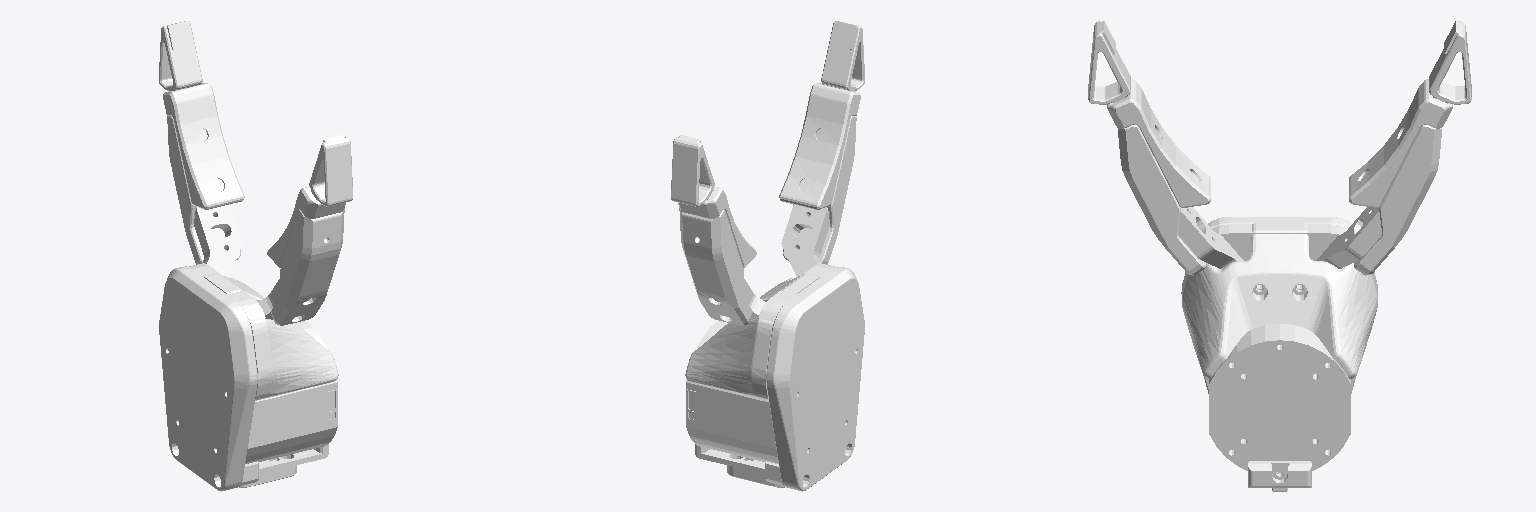
robot.urdf — xpkg_urdf_gr100:
<?xml version="1.0" encoding="utf-8"?>
<!-- This URDF was automatically created by SolidWorks to URDF Exporter! Originally created by Stephen Brawner (brawner@gmail.com) 
     Commit Version: 1.6.0-4-g7f85cfe  Build Version: 1.6.7995.38578
     For more information, please see http://wiki.ros.org/sw_urdf_exporter -->
<robot
  name="xpkg_urdf_gr100">
  <link
    name="base_link">
    <inertial>
      <origin
        xyz="-0.00386337 0.00001755 0.04222242"
        rpy="0 0 0" />
      <mass
        value="0.47163661" />
      <inertia
        ixx="0.00032421"
        ixy="0.00000064"
        ixz="0.00004032"
        iyy="0.00032388"
        iyz="0.00000041"
        izz="0.00022576" />
    </inertial>
    <visual>
      <origin
        xyz="0 0 0"
        rpy="0 0 0" />
      <geometry>
        <mesh
          filename="package://xpkg_urdf_gr100/meshes/base_link.STL" />
      </geometry>
      <material
        name="">
        <color
          rgba="1 1 1 1" />
      </material>
    </visual>
    <collision>
      <origin
        xyz="0 0 0"
        rpy="0 0 0" />
      <geometry>
        <mesh
          filename="package://xpkg_urdf_gr100/meshes/base_link.STL" />
      </geometry>
    </collision>
  </link>
  <link
    name="L1">
    <inertial>
      <origin
        xyz="0.01344478 -0.02402636 0.03494436"
        rpy="0 0 0" />
      <mass
        value="0.02806607" />
      <inertia
        ixx="0.00002286"
        ixy="0.00000088"
        ixz="-0.00000130"
        iyy="0.00001838"
        iyz="0.00000883"
        izz="0.00000630" />
    </inertial>
    <visual>
      <origin
        xyz="0 0 0"
        rpy="0 0 0" />
      <geometry>
        <mesh
          filename="package://xpkg_urdf_gr100/meshes/L1.STL" />
      </geometry>
      <material
        name="">
        <color
          rgba="1 1 1 1" />
      </material>
    </visual>
    <collision>
      <origin
        xyz="0 0 0"
        rpy="0 0 0" />
      <geometry>
        <mesh
          filename="package://xpkg_urdf_gr100/meshes/L1.STL" />
      </geometry>
    </collision>
  </link>
  <joint
    name="J1"
    type="revolute">
    <origin
      xyz="0 -0.015 0.076799"
      rpy="0 0 0" />
    <parent
      link="base_link" />
    <child
      link="L1" />
    <axis
      xyz="-1 0 0" />
    <limit
      lower="0.0"
      upper="0.57"
      effort="5"
      velocity="10" />
  </joint>
  <link
    name="L2">
    <inertial>
      <origin
        xyz="0.01341406 0.02402380 0.03494613"
        rpy="0 0 0" />
      <mass
        value="0.02806607" />
      <inertia
        ixx="0.00002286"
        ixy="-0.00000087"
        ixz="-0.00000129"
        iyy="0.00001838"
        iyz="-0.00000883"
        izz="0.00000629" />
    </inertial>
    <visual>
      <origin
        xyz="0 0 0"
        rpy="0 0 0" />
      <geometry>
        <mesh
          filename="package://xpkg_urdf_gr100/meshes/L2.STL" />
      </geometry>
      <material
        name="">
        <color
          rgba="1 1 1 1" />
      </material>
    </visual>
    <collision>
      <origin
        xyz="0 0 0"
        rpy="0 0 0" />
      <geometry>
        <mesh
          filename="package://xpkg_urdf_gr100/meshes/L2.STL" />
      </geometry>
    </collision>
  </link>
  <joint
    name="J2"
    type="revolute">
    <origin
      xyz="0 0.015 0.076799"
      rpy="0 0 0" />
    <parent
      link="base_link" />
    <child
      link="L2" />
    <axis
      xyz="1 0 0" />
    <limit
      lower="0.0"
      upper="0.57"
      effort="5"
      velocity="10" />
  </joint>
</robot>

--- What the picture shows (computed from the rendered views, not written in the file) ---
3 views of the same robot in one strip: view 1: azimuth 30°, elevation 25°; view 2: azimuth 150°, elevation 25°; view 3: azimuth 270°, elevation 25° (orthographic).
Model xpkg_urdf_gr100 with 3 links and 2 joints (2 revolute), rooted at base_link, posed every joint at zero.
Links seen in each view (by area): view 1: base_link, L2, L1; view 2: base_link, L1, L2; view 3: base_link, L1, L2.
Link boxes in pixels (x1,y1,x2,y2): base_link: [159, 263, 338, 491]; L2: [159, 21, 244, 276]; L1: [258, 135, 352, 325]; base_link: [685, 263, 864, 491]; L1: [779, 21, 864, 276]; L2: [671, 135, 765, 325]; base_link: [1181, 217, 1377, 491]; L1: [1088, 21, 1243, 275]; L2: [1316, 21, 1471, 275].
Size in the robot's own frame: 0.0589 by 0.1439 by 0.1837 metres.
Meshes: 3 distinct files referenced, 3 mesh visuals loaded (3 binary STL).
